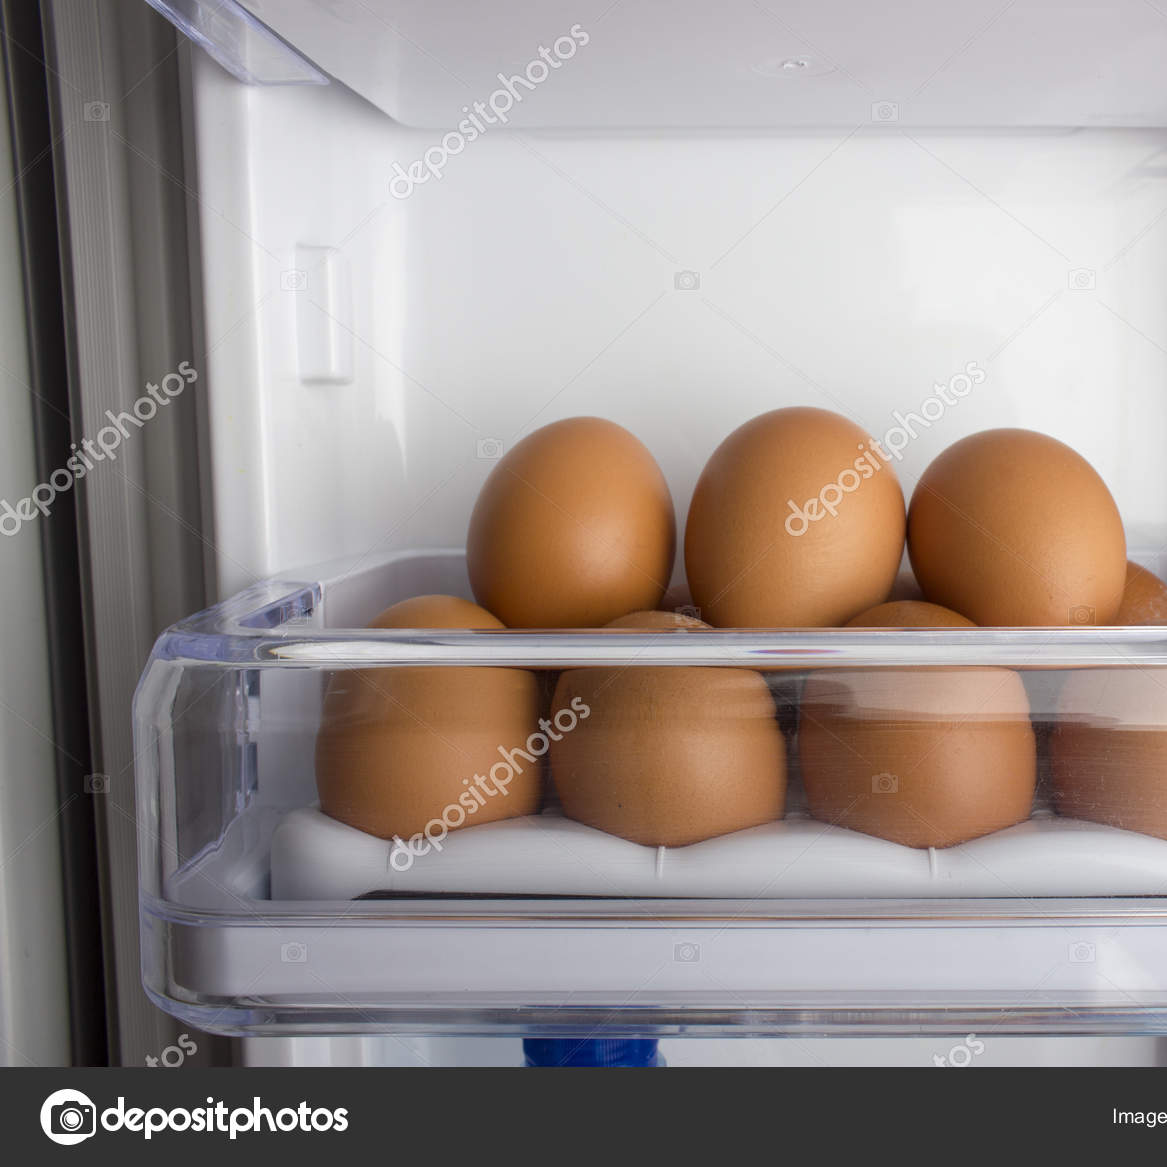egg: (294, 399, 1167, 854)
